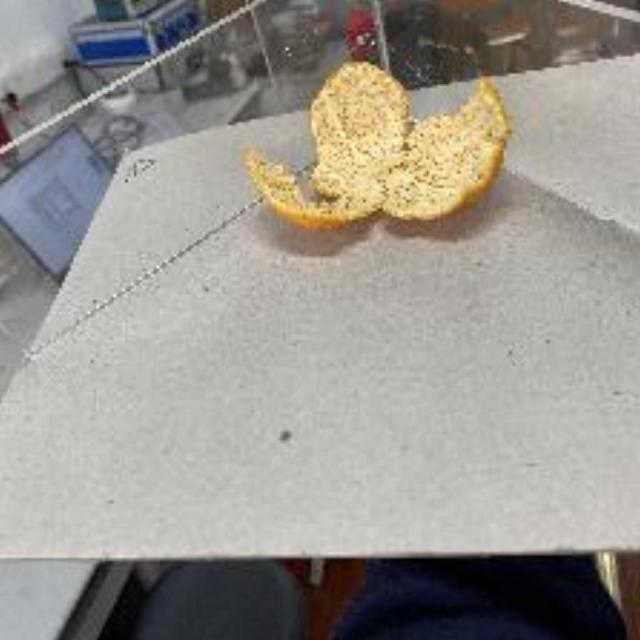orange-peel: (245, 58, 518, 228)
